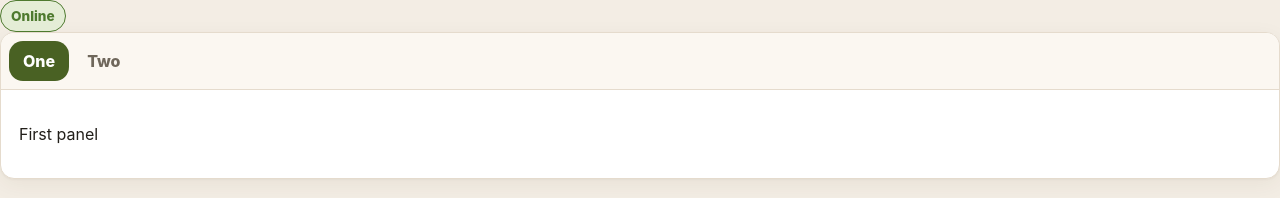
UI primitives › renders badges and tab panels
Expected: the text "Online" is shown, [0,0,66,32]
Expected: the text "First panel" is shown, [19,124,98,144]
Click the tab "Two". click: (104, 61)
box: [73,41,134,81]
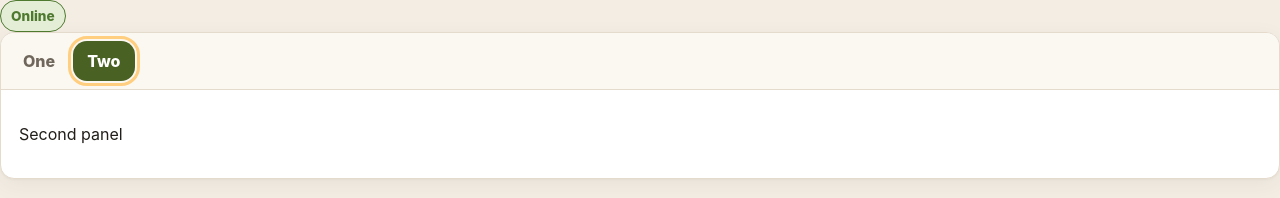
Now the text "Second panel" is shown, box [19,124,123,144]
